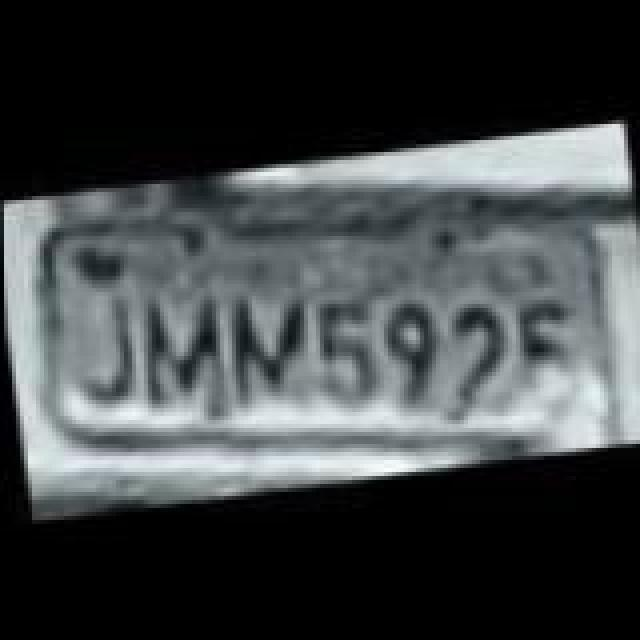2: (438, 300, 518, 428)
5: (306, 286, 386, 414), (502, 296, 582, 416)
9: (376, 286, 444, 410)
J: (58, 286, 134, 402)
M: (216, 280, 324, 424), (128, 280, 232, 416)
